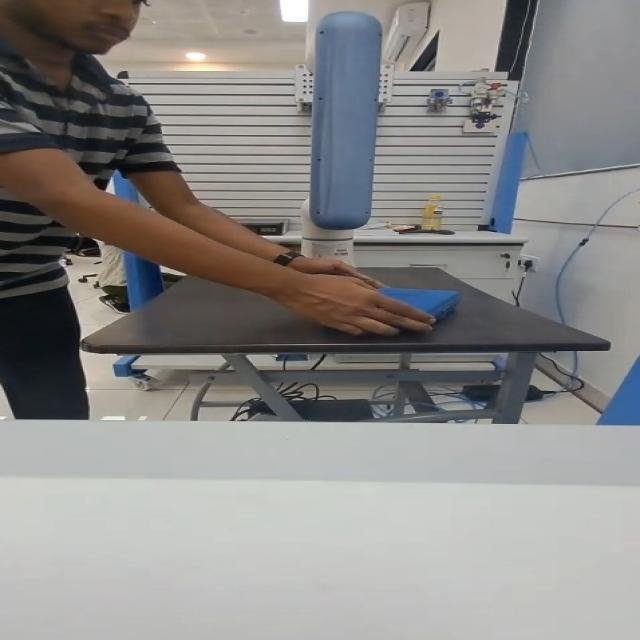top-surface: (363, 292, 439, 306)
